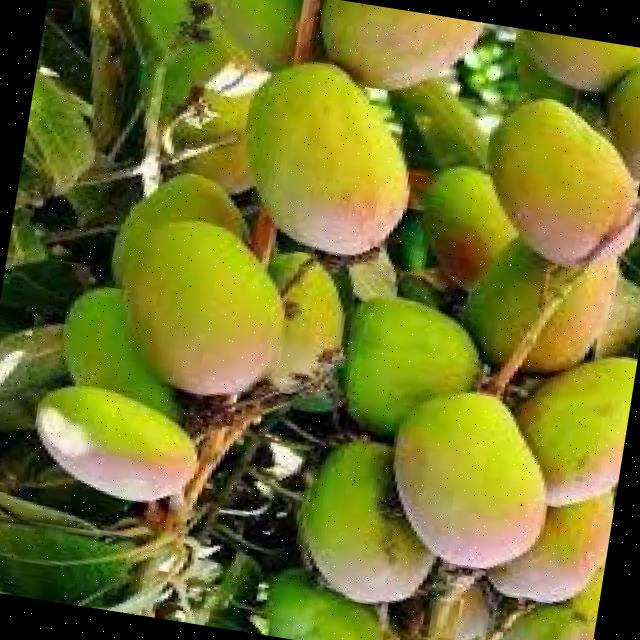mango: (390, 386, 549, 568)
